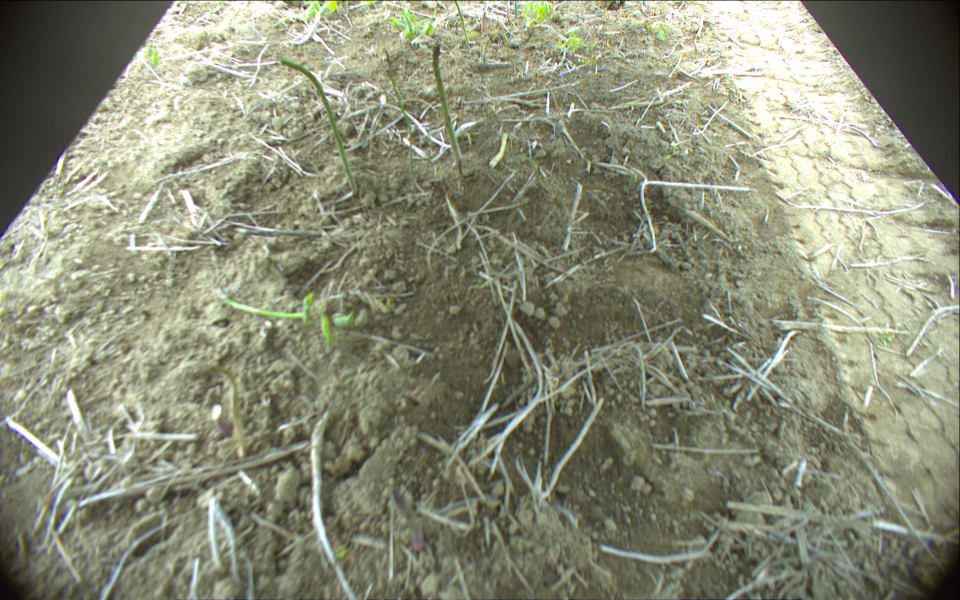aspa: (281, 58, 360, 197), (383, 50, 416, 178), (431, 44, 464, 172), (221, 296, 303, 318), (451, 1, 471, 45), (489, 132, 510, 171), (513, 1, 519, 21)
